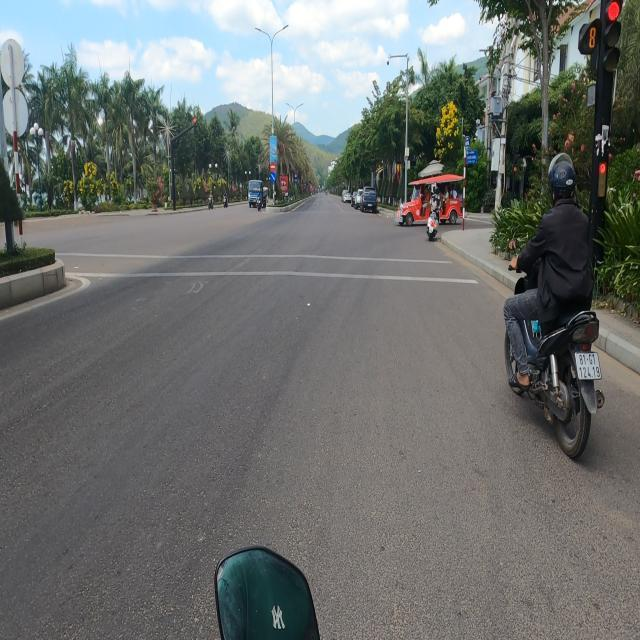walk-crossing: (64, 248, 477, 290)
